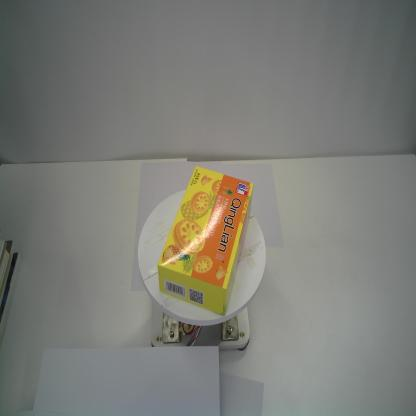Dessert: (157, 164, 254, 315)
